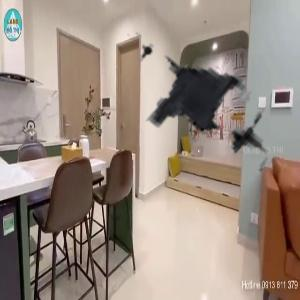drone: (73, 3, 287, 217)
